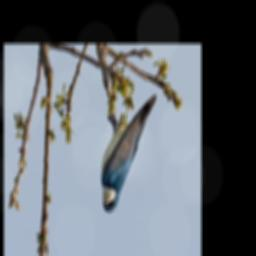Swallow: (98, 92, 159, 217)
